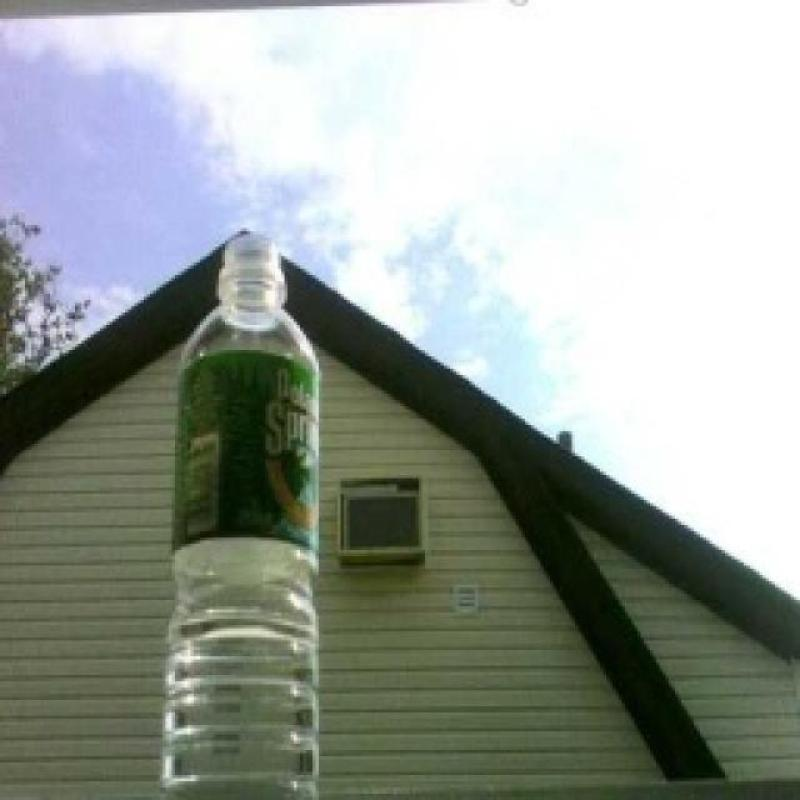botella: (162, 234, 322, 800)
